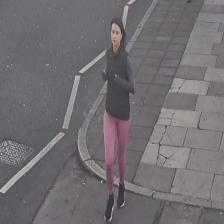person: (101, 16, 135, 220)
